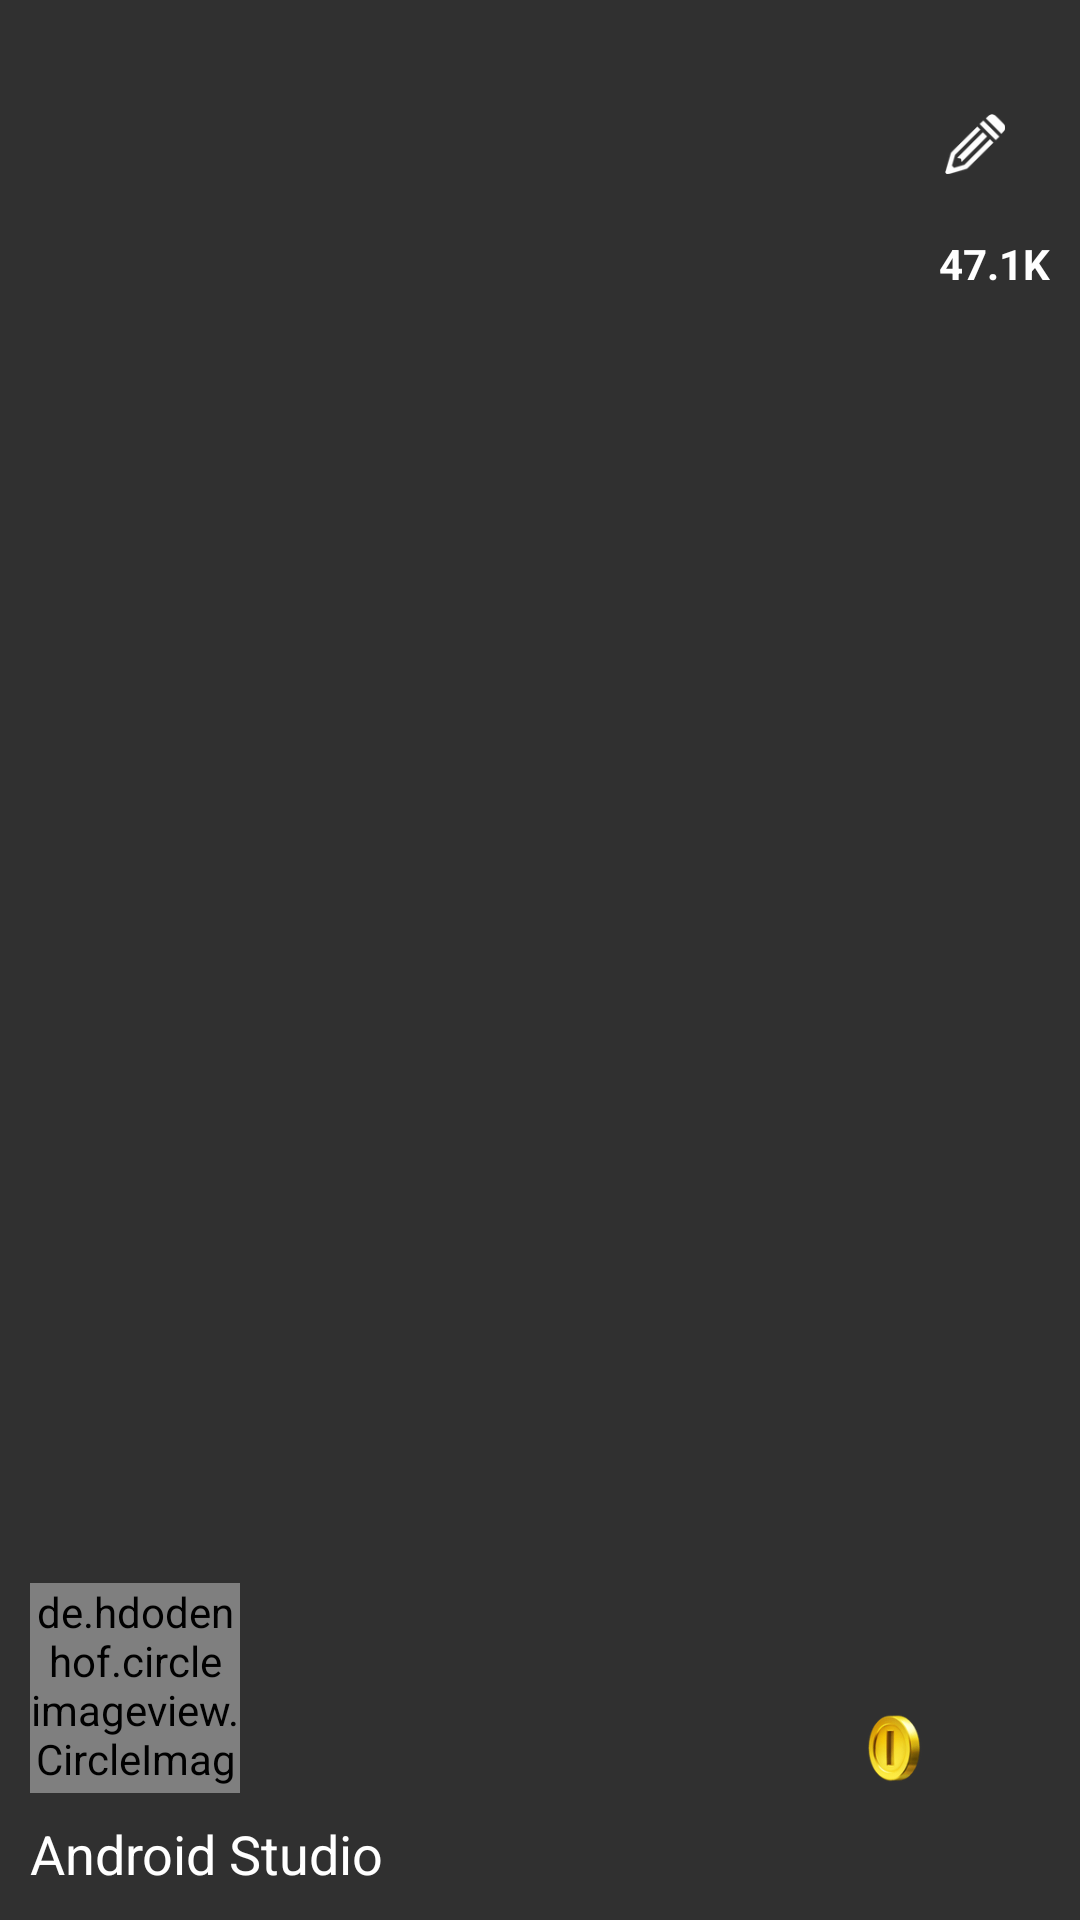

Where to tap for icons on this 1080px×1920px app screen, as (x=x, y=y):
coin: (x=894, y=1748)
